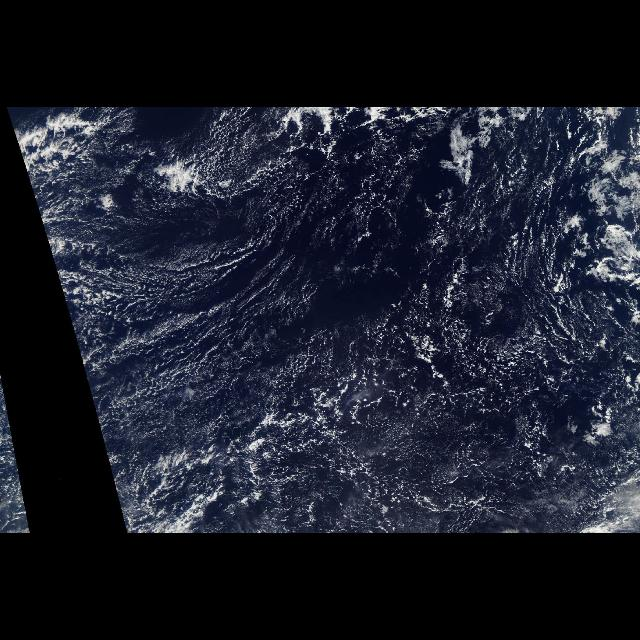Gravel: (228, 271, 636, 534), (127, 112, 326, 214)
Sugar: (56, 107, 590, 451)
